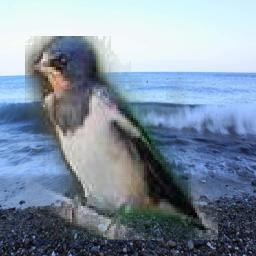Swallow: (26, 36, 219, 240)
